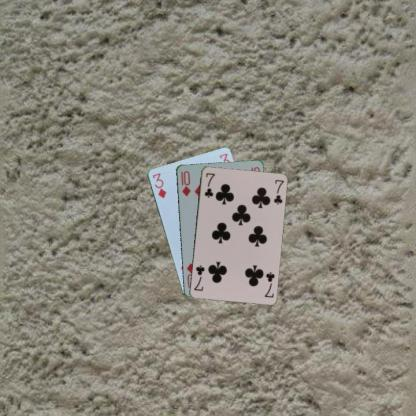10d: (178, 168, 191, 197)
3d: (150, 170, 167, 199)
7c: (262, 269, 276, 299), (202, 170, 216, 199)
